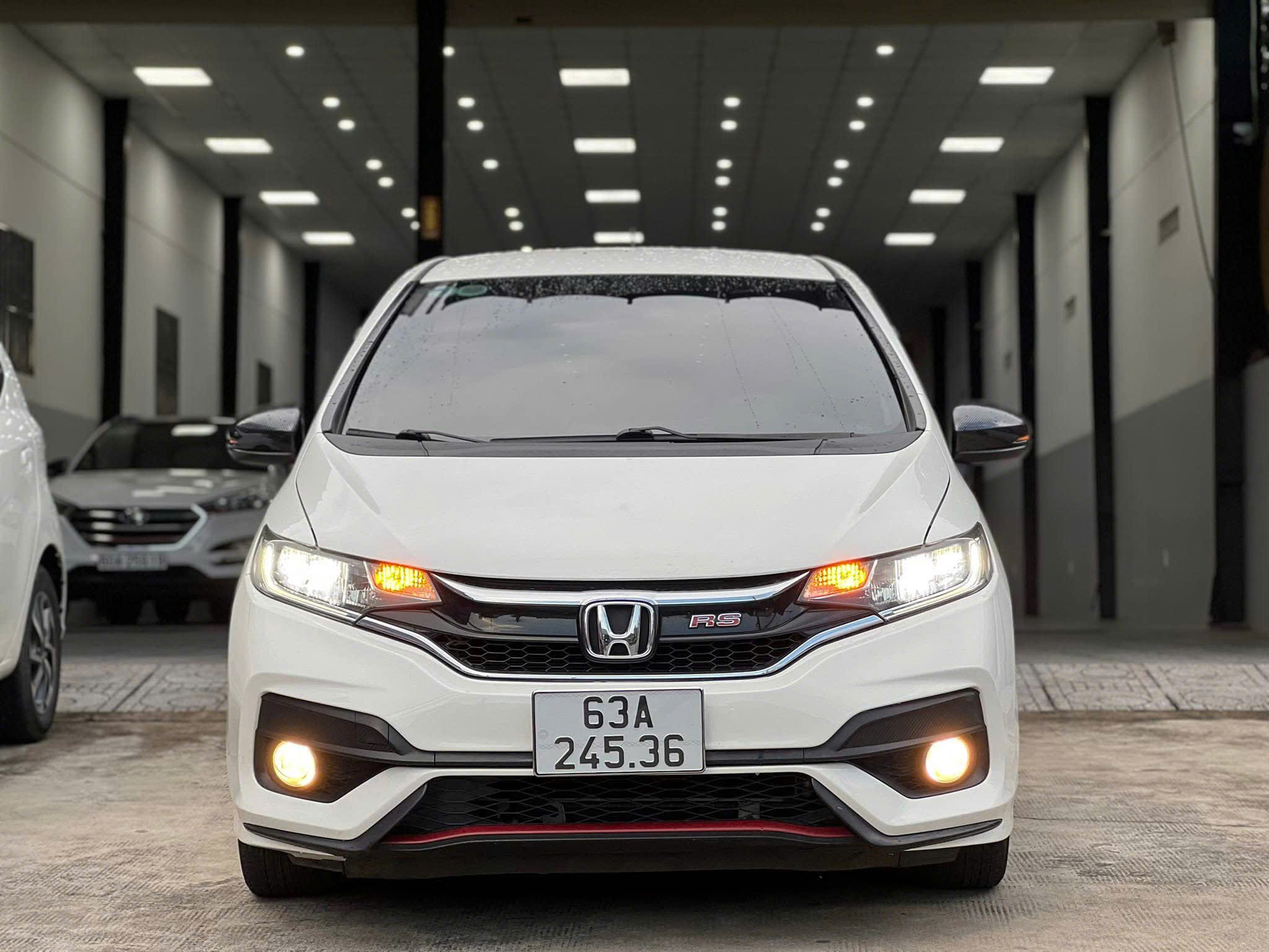Bien-so: (527, 687, 700, 779)
